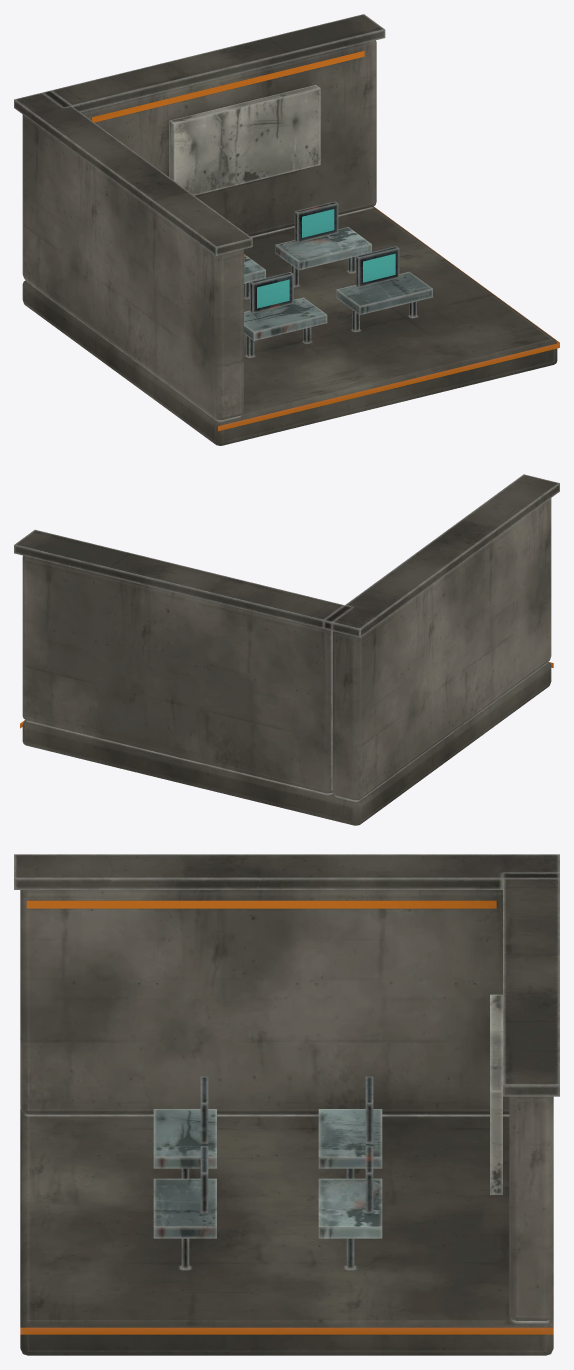
The model's file is university.glb.
The picture shows the model from 3 angles, top to bottom: view 1: azimuth 30°, elevation 25°; view 2: azimuth 150°, elevation 25°; view 3: azimuth 270°, elevation 25°; orthographic projection. The views are drawn at different scales.
Visible parts, largest first — view 1: te_university; view 2: te_university; view 3: te_university.
Boxes of the visible parts, <box> form: te_university: <box>14,14,559,445</box>; te_university: <box>14,474,559,825</box>; te_university: <box>14,854,559,1355</box>.
Bounding box in the file's own units: 0.86 × 0.48 × 0.86.
1 material, 1 textured.
